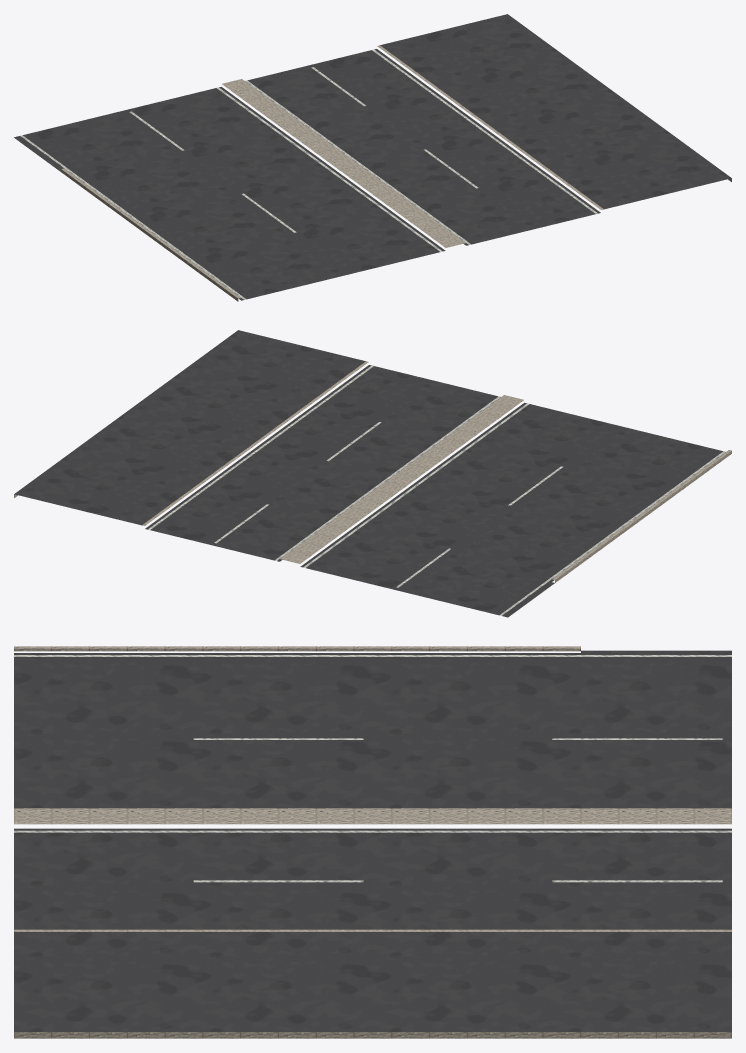
Rendered from SM_Viale_Italia_Strada_v2_Varco_LOD2.fbx.
The picture shows the model from 3 angles, top to bottom: view 1: azimuth 30°, elevation 25°; view 2: azimuth 150°, elevation 25°; view 3: azimuth 270°, elevation 25°; orthographic projection. The views are drawn at different scales.
Visible parts, largest first — view 1: SM_Viale_Italia_Strada_v2_Varco_LOD2; view 2: SM_Viale_Italia_Strada_v2_Varco_LOD2; view 3: SM_Viale_Italia_Strada_v2_Varco_LOD2.
Boxes of the visible parts, x1,y1,x2,y2 form: SM_Viale_Italia_Strada_v2_Varco_LOD2: (14,14,731,301); SM_Viale_Italia_Strada_v2_Varco_LOD2: (14,330,731,617); SM_Viale_Italia_Strada_v2_Varco_LOD2: (14,646,731,1038).
Size of the model in its own units: 2415 by 1900 by 20.
Materials: 3 (3 with a texture image).
